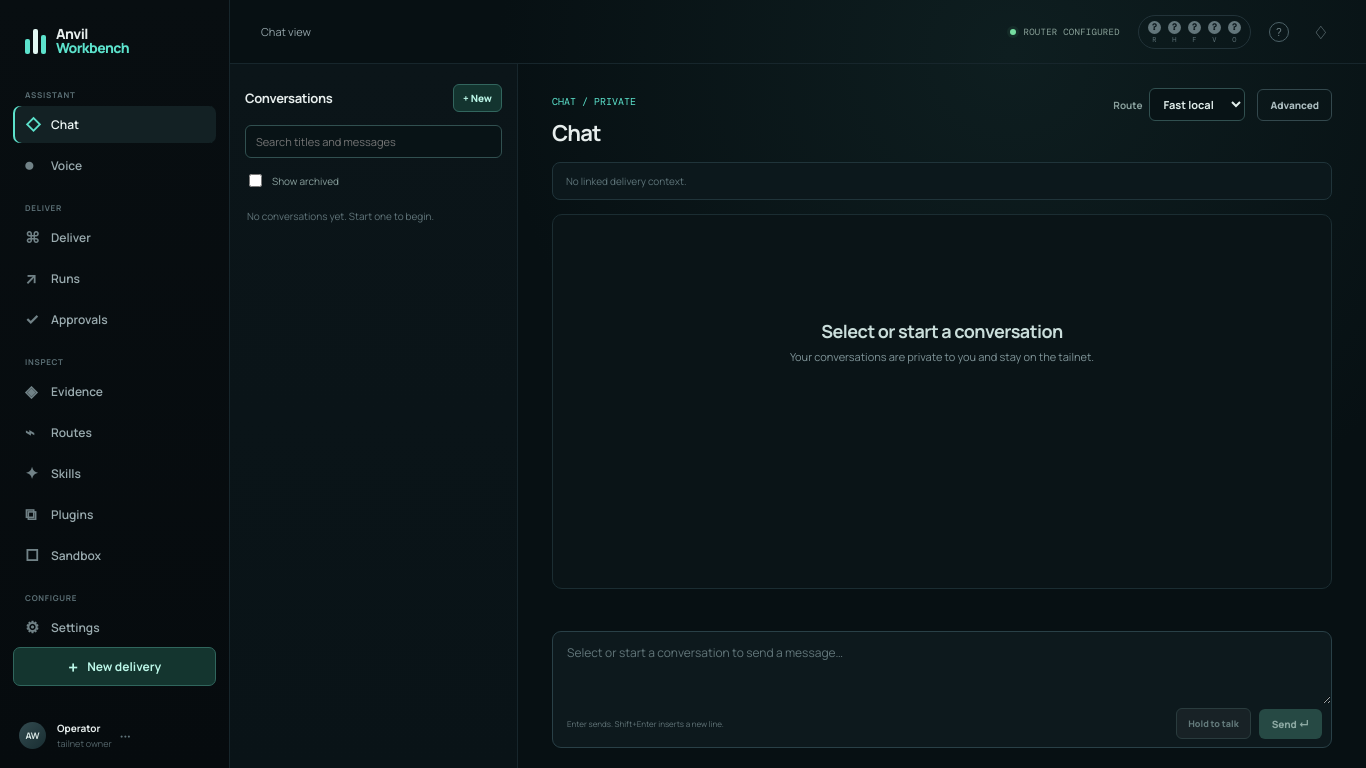
Test: Criterion 1 — a new and a returning actor complete the wired chat loop › new actor: a mid-stream cancel leaves a consistent transcript
The image size is (1366, 768).
Expected: the text "No conversations yet. Start one to begin." is shown, 247,209 -> 434,223
Click the button with aria-label "Start a new conversation" at point(478, 98), box 453,84 -> 502,112
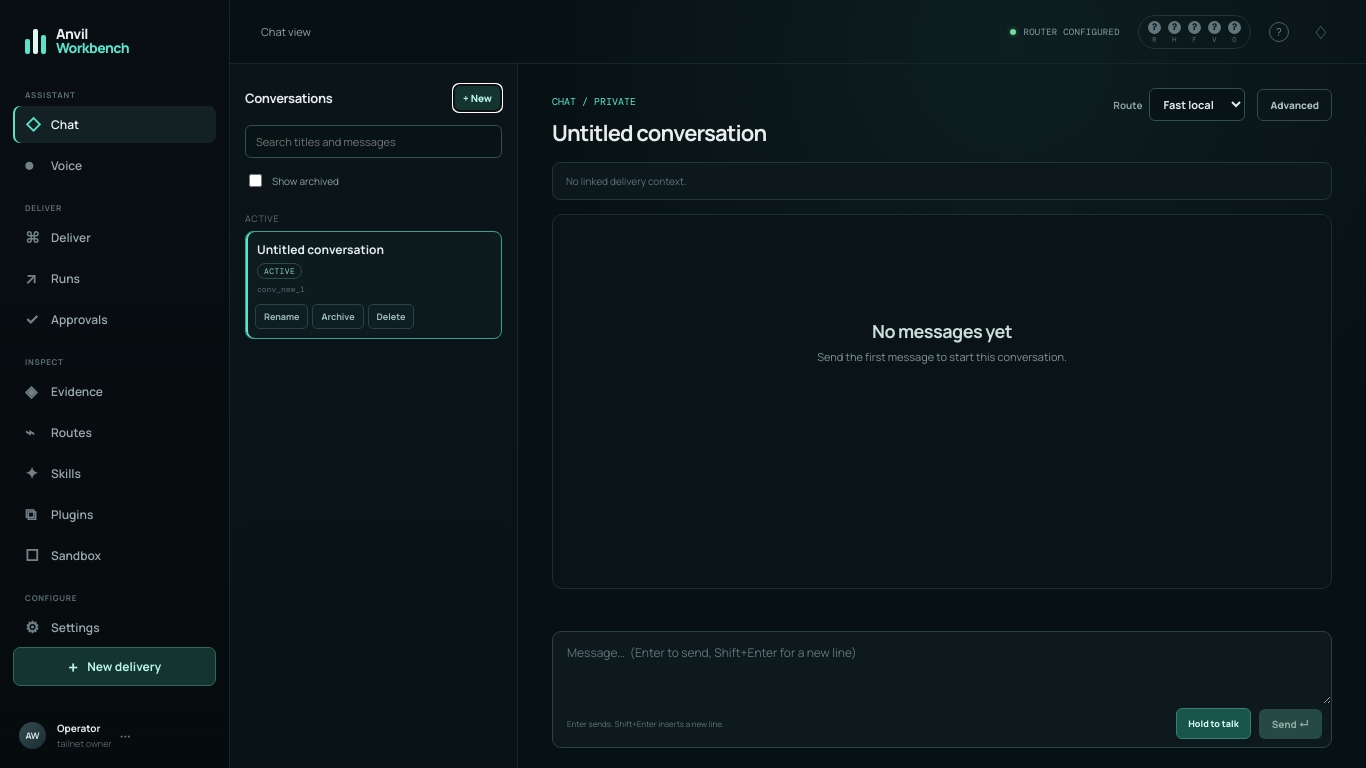
Now the element named "Empty conversation" is shown, box 817,318 -> 1067,364
Type "summarize this" into the text box named "Message composer" at point(942, 668), box 553,632 -> 1331,704
Then press Enter
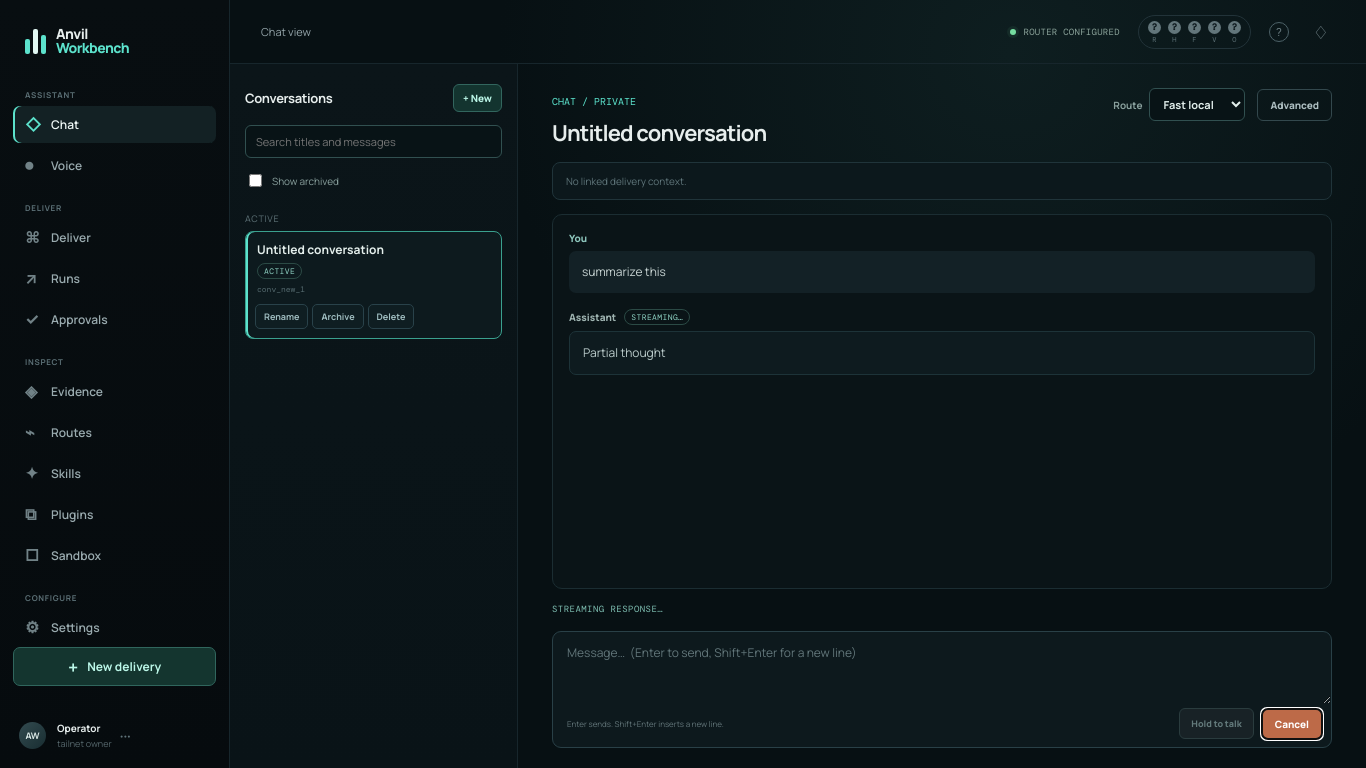
Now the text "Partial thought" is shown, box 569,331 -> 1315,375
Click the button with aria-label "Cancel streaming response" at point(1292, 724), box 1262,708 -> 1322,738
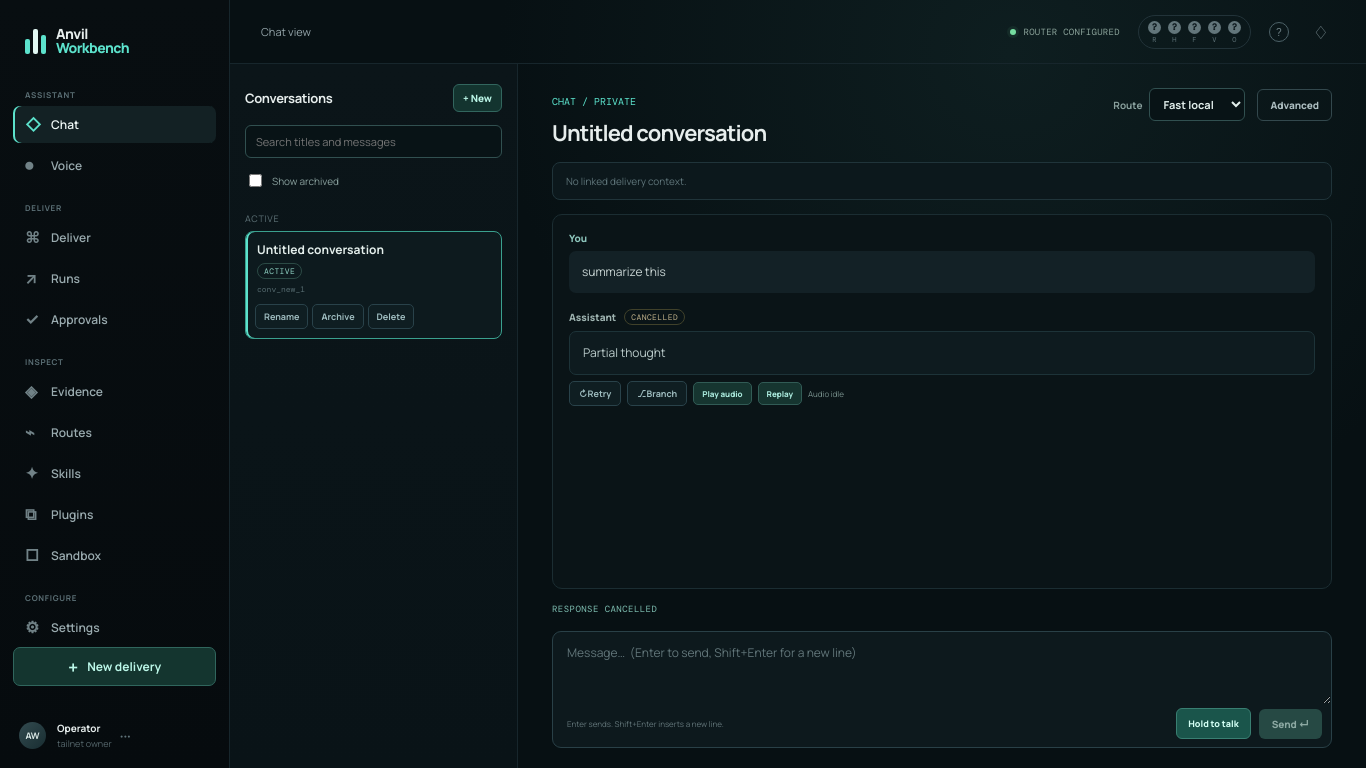
Now the text "Partial thought" is shown, box 569,331 -> 1315,375
Now the text "Response cancelled" is shown, box 552,603 -> 657,615
Now the text "cancelled" is shown, box 624,309 -> 685,325
